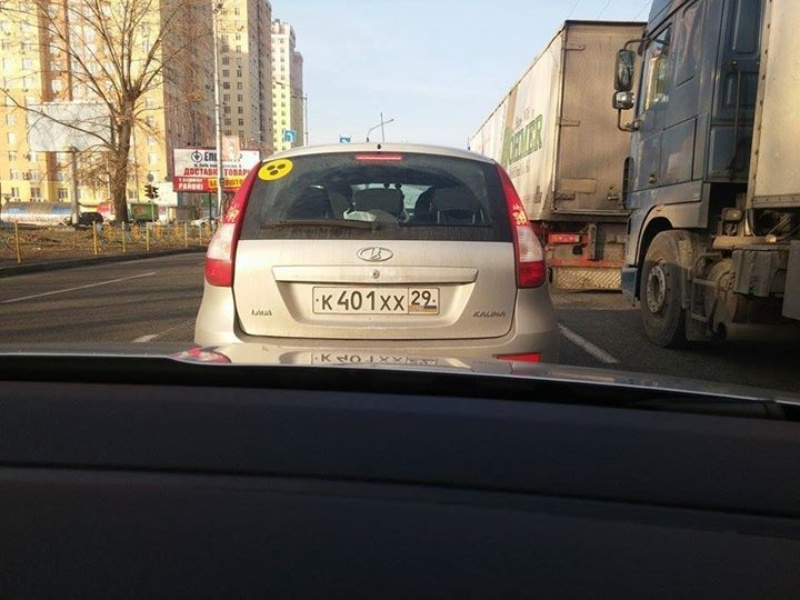car: (194, 141, 561, 364), (622, 1, 800, 341)
plate: (313, 287, 438, 315)
